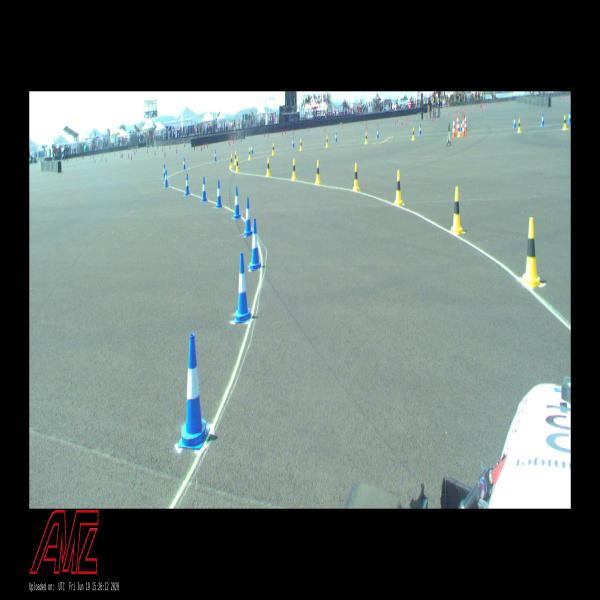blue_cone: (178, 334, 210, 450), (234, 251, 251, 321), (249, 218, 261, 269), (244, 197, 253, 235), (233, 186, 241, 218), (216, 180, 222, 208), (201, 177, 207, 201), (185, 173, 190, 195), (540, 113, 545, 127), (164, 170, 168, 187), (183, 157, 186, 170), (214, 149, 217, 162), (513, 116, 516, 128), (163, 163, 165, 178), (376, 128, 379, 138), (568, 109, 570, 124), (251, 143, 253, 154), (419, 124, 421, 135), (460, 120, 462, 131), (292, 137, 294, 147), (335, 132, 337, 142)
large_orange_cone: (452, 117, 456, 137), (462, 116, 465, 137), (464, 113, 467, 132), (456, 114, 458, 133)
yellow_cone: (522, 219, 540, 286), (451, 186, 463, 233), (394, 169, 403, 206), (353, 163, 360, 191), (315, 159, 321, 184), (266, 157, 271, 177), (292, 158, 296, 180), (235, 156, 240, 172), (517, 118, 521, 133), (563, 114, 567, 129), (457, 123, 461, 137), (230, 152, 233, 168), (248, 147, 251, 160), (364, 132, 367, 144), (234, 150, 236, 163), (300, 138, 302, 151), (412, 127, 414, 140), (272, 143, 274, 154), (326, 136, 328, 147)
